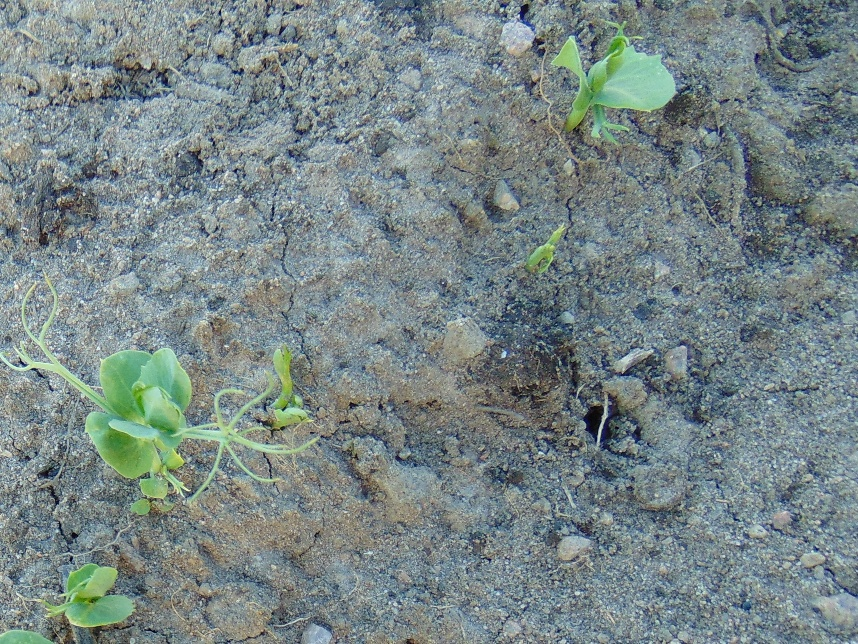crop: (9, 292, 303, 514), (550, 18, 675, 147), (42, 561, 136, 632), (529, 223, 565, 271)
